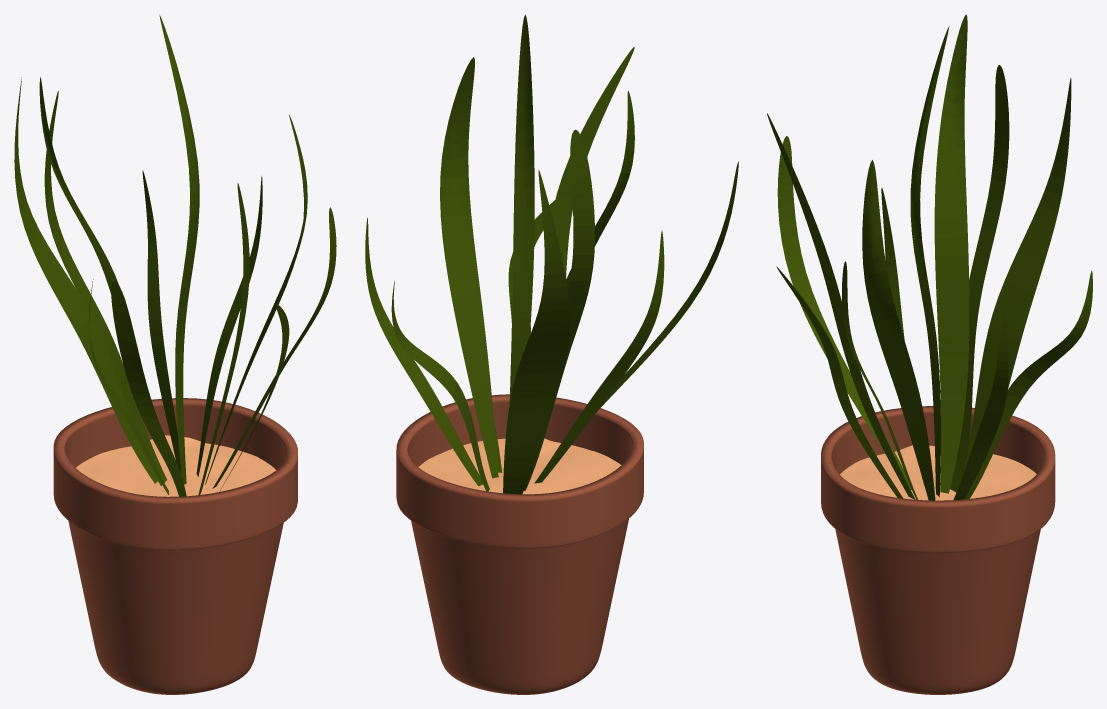
The model's file is Plant.fbx.
3 renders of one model, left to right at view 1: azimuth 30°, elevation 25°; view 2: azimuth 150°, elevation 25°; view 3: azimuth 270°, elevation 25°, orthographic. The views are drawn at different scales.
Visible parts, largest first — view 1: Cube.013, Cube.014, Plane.010, Plane, Plane.016, Plane.009, Plane.019, Plane.011, Plane.015, Plane.012, Plane.014, Plane.013 (+2 smaller); view 2: Cube.013, Plane.014, Plane.010, Plane, Cube.014, Plane.016, Plane.011, Plane.018, Plane.015, Plane.019, Plane.009, Plane.012; view 3: Cube.013, Plane.012, Plane.010, Plane.014, Plane.016, Cube.014, Plane, Plane.009, Plane.015, Plane.011, Plane.019, Plane.017 (+2 smaller).
Part boxes in pixels (bbox=[...]): Cube.013: bbox=[53, 398, 297, 694]; Cube.014: bbox=[76, 435, 276, 496]; Plane.010: bbox=[14, 77, 157, 483]; Plane: bbox=[159, 14, 199, 484]; Plane.016: bbox=[44, 90, 166, 485]; Plane.009: bbox=[111, 281, 186, 496]; Plane.019: bbox=[142, 170, 181, 474]; Plane.011: bbox=[196, 176, 262, 476]; Plane.015: bbox=[198, 183, 249, 495]; Plane.012: bbox=[39, 77, 118, 294]; Plane.014: bbox=[205, 115, 307, 484]; Plane.013: bbox=[212, 207, 336, 488]; Cube.013: bbox=[396, 394, 643, 694]; Plane.014: bbox=[440, 57, 498, 478]; Plane.010: bbox=[503, 170, 570, 494]; Plane: bbox=[509, 14, 534, 403]; Cube.014: bbox=[418, 438, 621, 494]; Plane.016: bbox=[524, 129, 594, 490]; Plane.011: bbox=[365, 217, 482, 486]; Plane.018: bbox=[534, 231, 664, 483]; Plane.015: bbox=[552, 47, 634, 276]; Plane.019: bbox=[391, 281, 489, 491]; Plane.009: bbox=[597, 161, 738, 411]; Plane.012: bbox=[566, 90, 634, 288]; Cube.013: bbox=[821, 406, 1055, 694]; Plane.012: bbox=[934, 14, 969, 493]; Plane.010: bbox=[964, 78, 1071, 469]; Plane.014: bbox=[862, 160, 935, 500]; Plane.016: bbox=[950, 65, 1009, 492]; Cube.014: bbox=[840, 445, 1036, 500]; Plane: bbox=[910, 26, 949, 496]; Plane.009: bbox=[777, 136, 911, 489]; Plane.015: bbox=[767, 113, 915, 499]; Plane.011: bbox=[953, 295, 1008, 499]; Plane.019: bbox=[964, 271, 1092, 499]; Plane.017: bbox=[776, 266, 903, 498].
Bounding box in the file's own units: 249 × 600 × 278.
